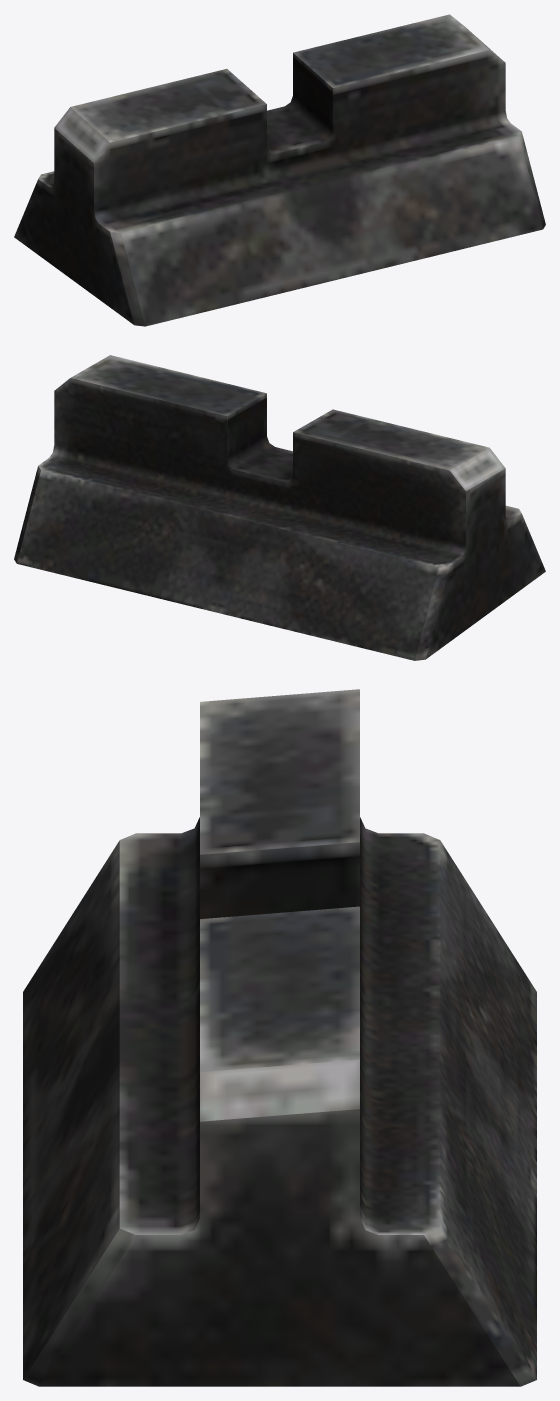
The model's file is sight_rear_pm_izhmeh_pm_std (merge).fbx.
3 views of the same model, one above another, from view 1: azimuth 30°, elevation 25°; view 2: azimuth 150°, elevation 25°; view 3: azimuth 270°, elevation 25° (orthographic). The views are drawn at different scales.
Parts seen in each view (by area): view 1: sight_rear_pm_izhmeh_pm_std_LOD0; view 2: sight_rear_pm_izhmeh_pm_std_LOD0; view 3: sight_rear_pm_izhmeh_pm_std_LOD0.
Boxes of the visible parts, bbox=[...] form: sight_rear_pm_izhmeh_pm_std_LOD0: bbox=[14, 14, 545, 326]; sight_rear_pm_izhmeh_pm_std_LOD0: bbox=[14, 355, 545, 660]; sight_rear_pm_izhmeh_pm_std_LOD0: bbox=[23, 689, 536, 1386].
Size of what is drawn, in the model's own units: 0.0125 by 0.00452 by 0.00675.
